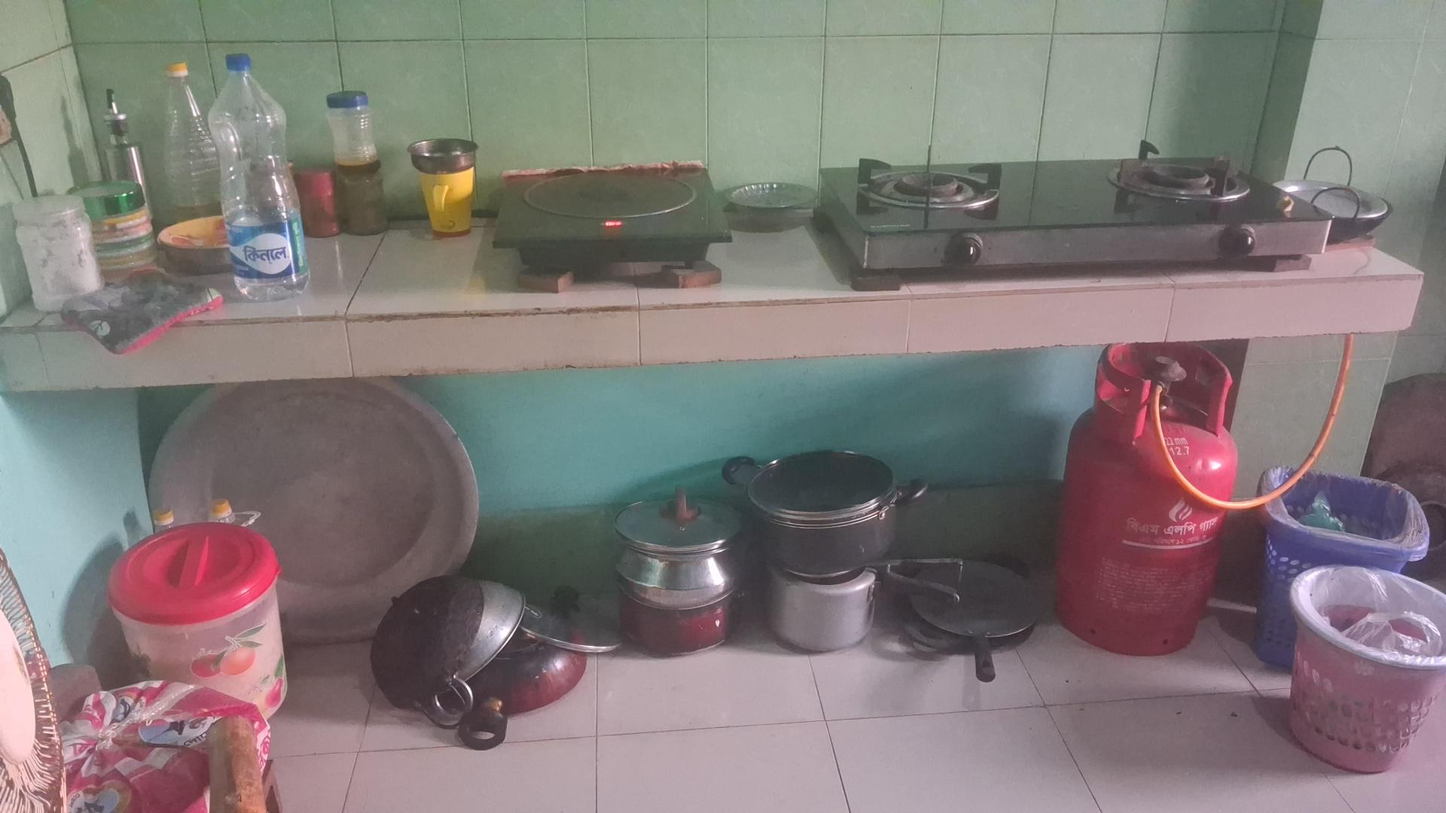Basket: (1291, 564, 1442, 772)
Bottle: (204, 52, 310, 297)
Bowl: (729, 182, 820, 230)
Jar: (9, 195, 102, 314), (330, 91, 380, 160)
Mug: (416, 160, 482, 236)
Pan: (913, 551, 1039, 687)
Pot: (720, 455, 935, 577)
